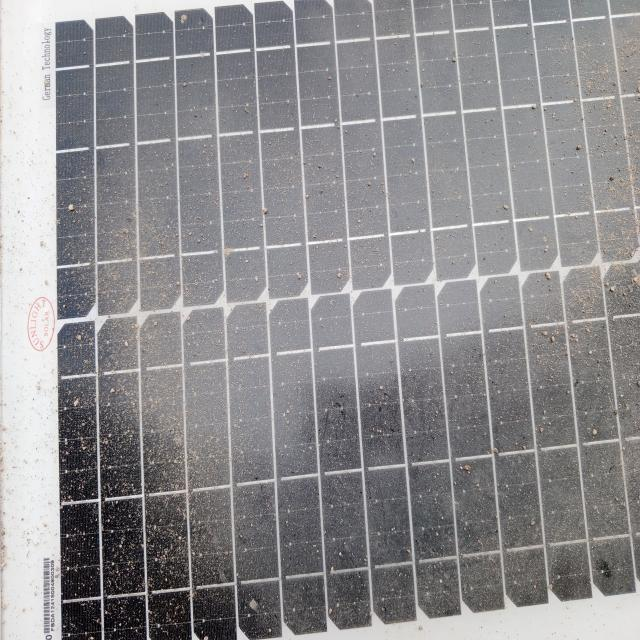Surface Contaminant: (50, 18, 639, 615)
